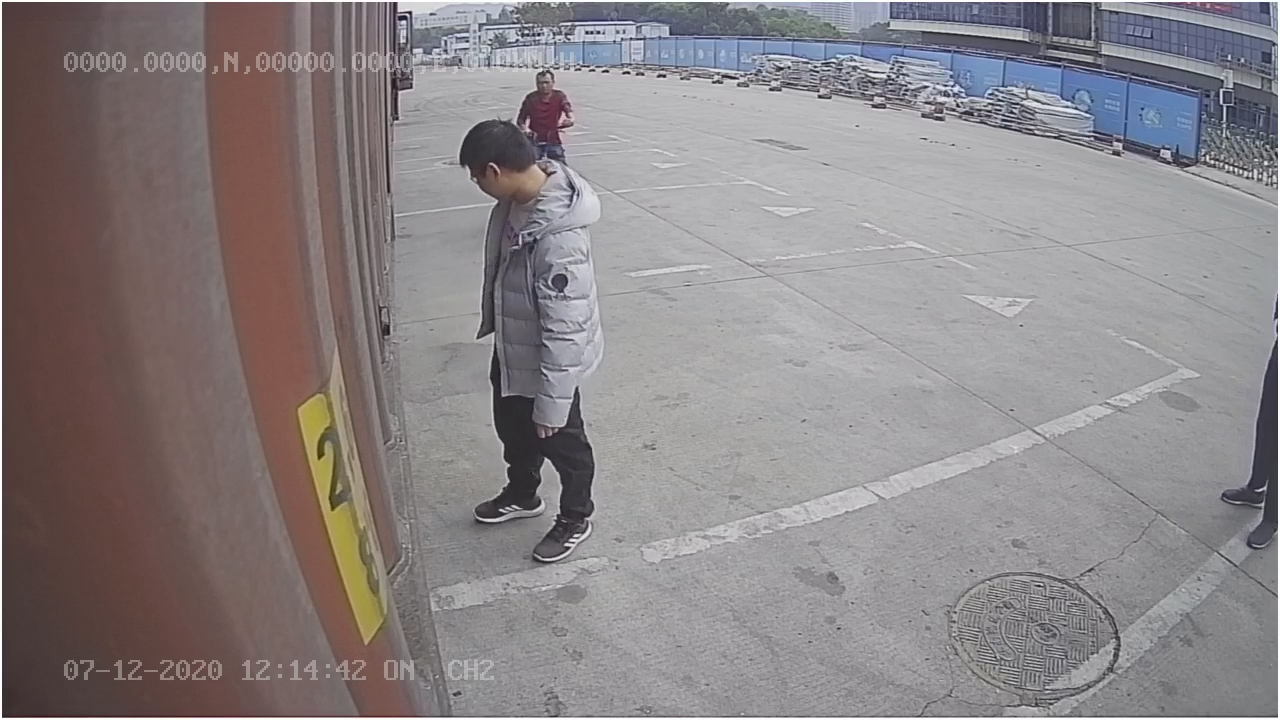person: (450, 114, 608, 562)
